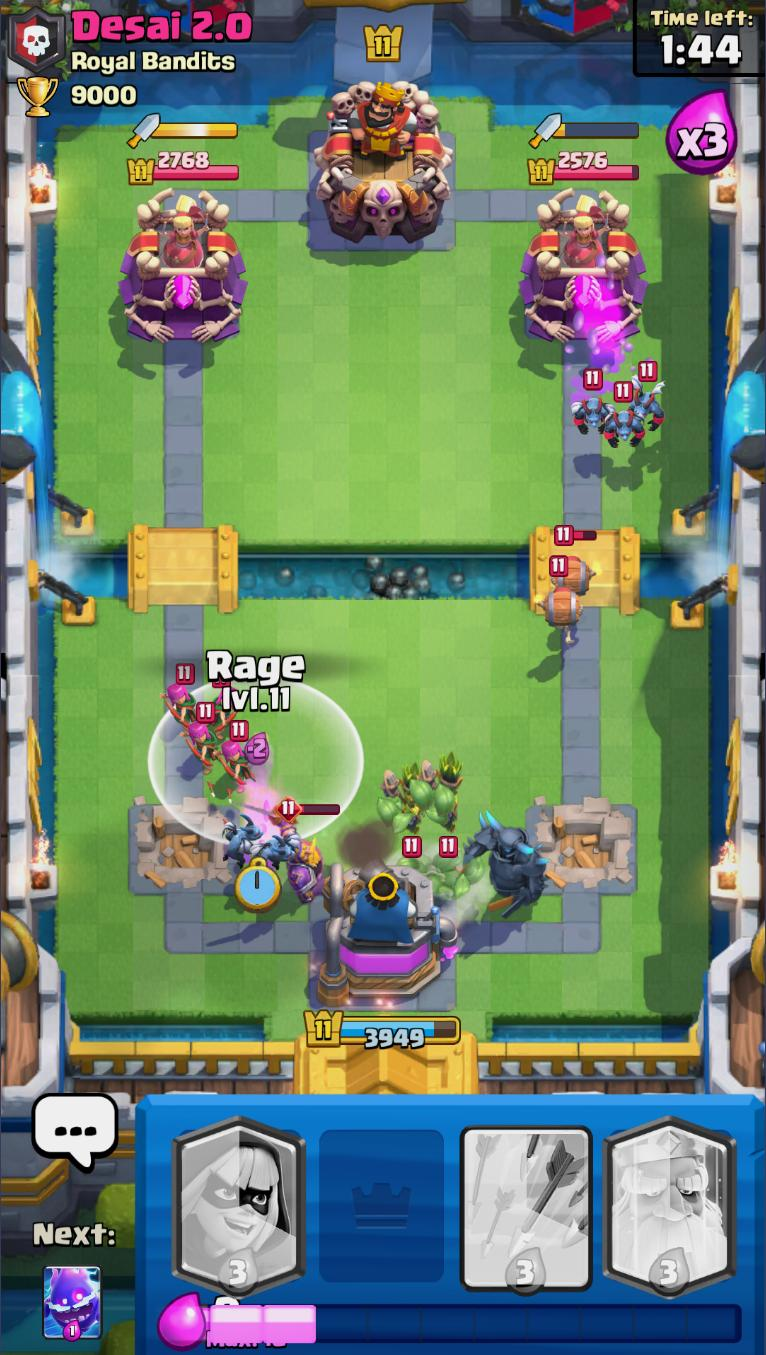Archer: (183, 699, 221, 774), (160, 661, 201, 727), (217, 717, 253, 789), (211, 679, 237, 739)
ArrowDeck: (453, 1097, 599, 1293)
BanditDeck: (166, 1097, 314, 1297)
BushGoblins: (417, 753, 461, 859), (381, 764, 424, 859)
DaggerDuchess: (160, 196, 211, 270), (563, 196, 611, 267)
Daggers: (124, 113, 241, 150), (527, 113, 641, 146)
ElectroSpiritNext: (39, 1263, 104, 1343)
Elixir: (210, 1293, 749, 1351)
Empty: (309, 1097, 453, 1291)
EnemyTower: (516, 189, 649, 349), (119, 184, 249, 347)
EvoKnight: (274, 793, 343, 904)
KingTower: (314, 76, 456, 246)
Minion: (567, 367, 617, 437), (597, 381, 647, 449), (629, 360, 669, 433)
MyKingHP: (304, 1010, 461, 1051)
MyKingTower: (311, 856, 461, 1009)
MyMinion: (254, 833, 300, 873), (224, 816, 260, 867)
MyPekka: (457, 810, 550, 926)
MyPrincessTowerBrocken: (124, 797, 246, 899), (526, 799, 640, 893)
RoyaleGhostDeck: (597, 1097, 741, 1297)
TowerPrincessHP: (526, 147, 641, 187), (127, 150, 243, 187)
WallBreakers: (533, 556, 587, 647), (551, 520, 601, 597)
